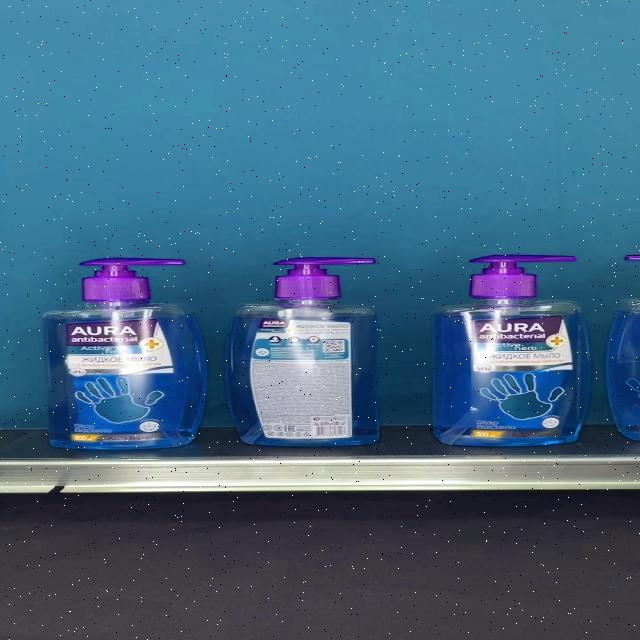Bottle: (42, 258, 206, 450), (431, 255, 591, 446), (225, 256, 380, 447)
Cap: (467, 255, 577, 297), (80, 258, 184, 301), (273, 256, 376, 298)
